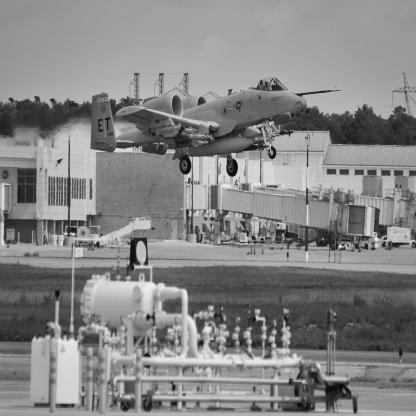A10: (91, 78, 343, 178)
